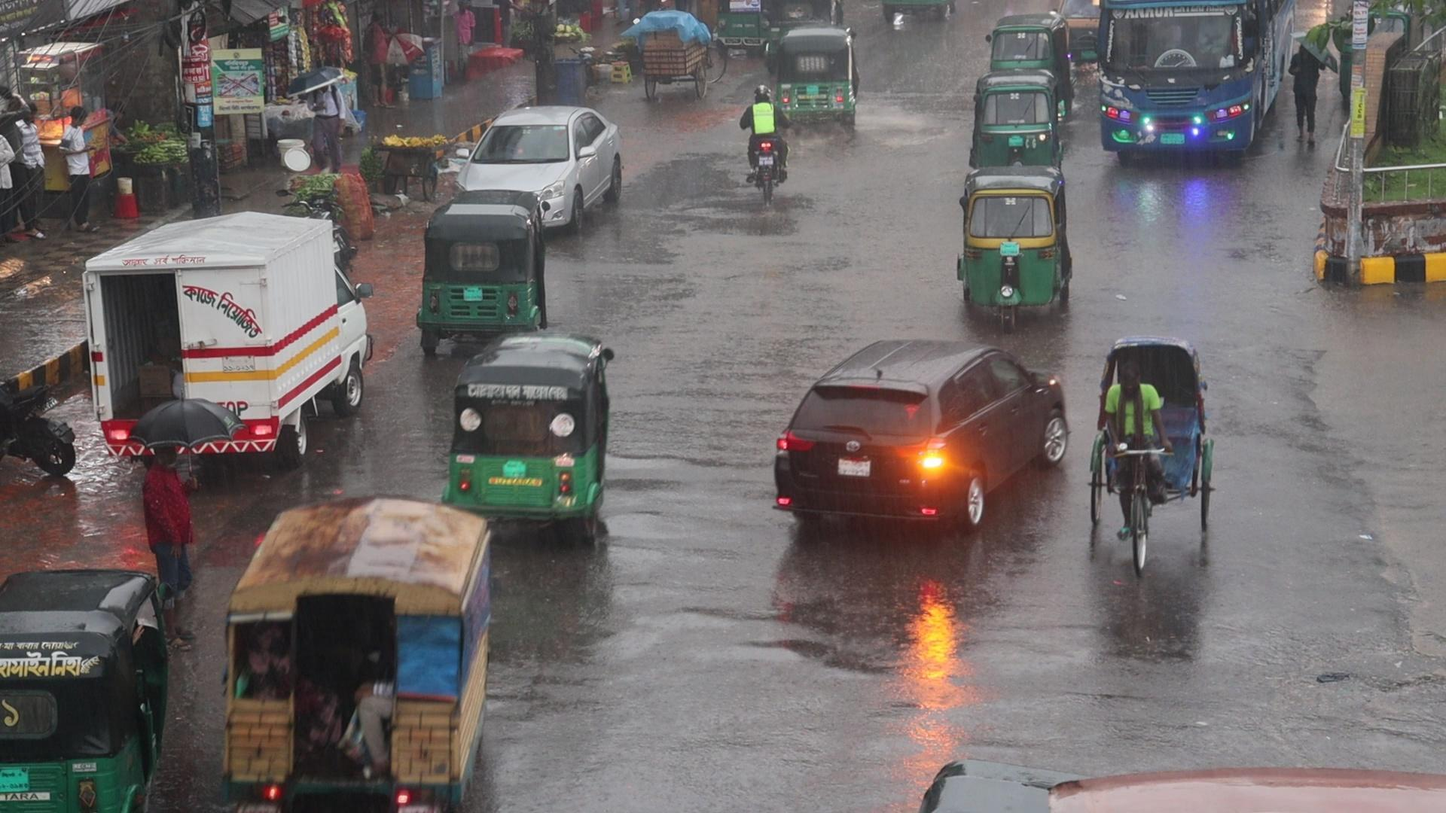Bike: (739, 84, 794, 208)
Car: (772, 335, 1073, 533)
Truck: (218, 492, 495, 798)
